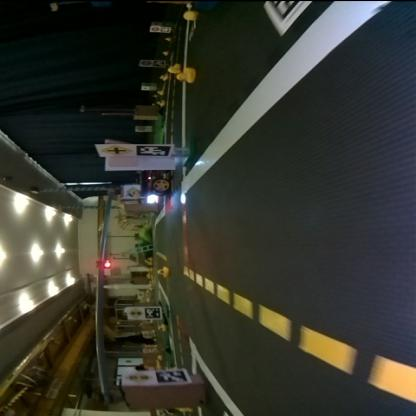Duckie: (177, 68, 194, 82), (183, 11, 197, 18), (158, 267, 168, 276), (168, 66, 180, 72), (158, 324, 166, 330), (160, 75, 168, 80), (157, 89, 163, 95), (158, 102, 164, 106)
Duckiebot: (140, 170, 168, 198)
Intersection sign: (99, 144, 132, 156)
QR code: (154, 369, 186, 383), (135, 144, 170, 156), (144, 308, 160, 318), (152, 61, 164, 66), (161, 26, 170, 31)
Signal sign: (123, 372, 153, 384), (128, 309, 142, 318)
Traffic light: (96, 260, 110, 268)
